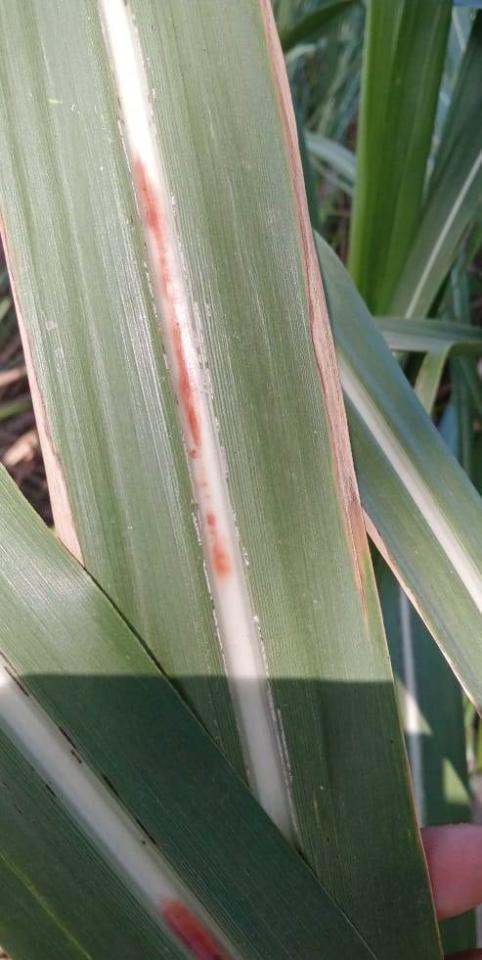RedRot: (128, 146, 240, 601), (152, 889, 240, 959)
